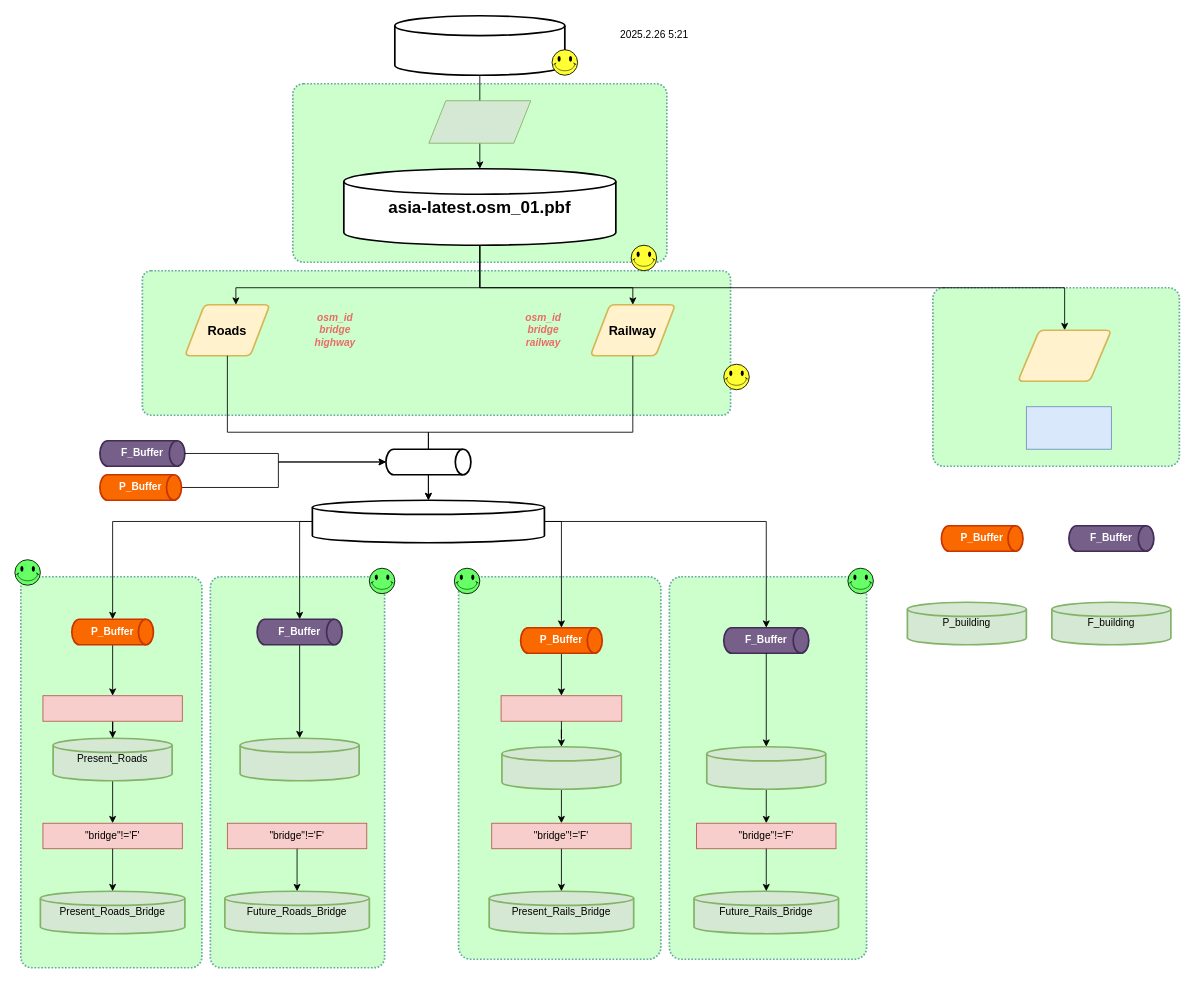
The diagram is 1195 pixels wide and 983 high, and some of its shapes have lost their labels. Here are the shapes that lost their labels. From the top down, the box of each, then its label:
(394, 14, 565, 76): asia-latest.osm.pbf
(428, 100, 531, 143): osmconvert64-0.8.8p.exe
(1017, 329, 1112, 382): Building
(1026, 406, 1111, 449): osm_id
(385, 448, 471, 475): BOUNFD
(311, 499, 545, 543): Smaller_database
(42, 695, 182, 721): "highway"!='construction'
(500, 695, 622, 721): "railway"!='construction'
(239, 737, 360, 781): Future_Roads
(501, 745, 621, 790): Present_Rails
(706, 745, 826, 790): Future_Rails
